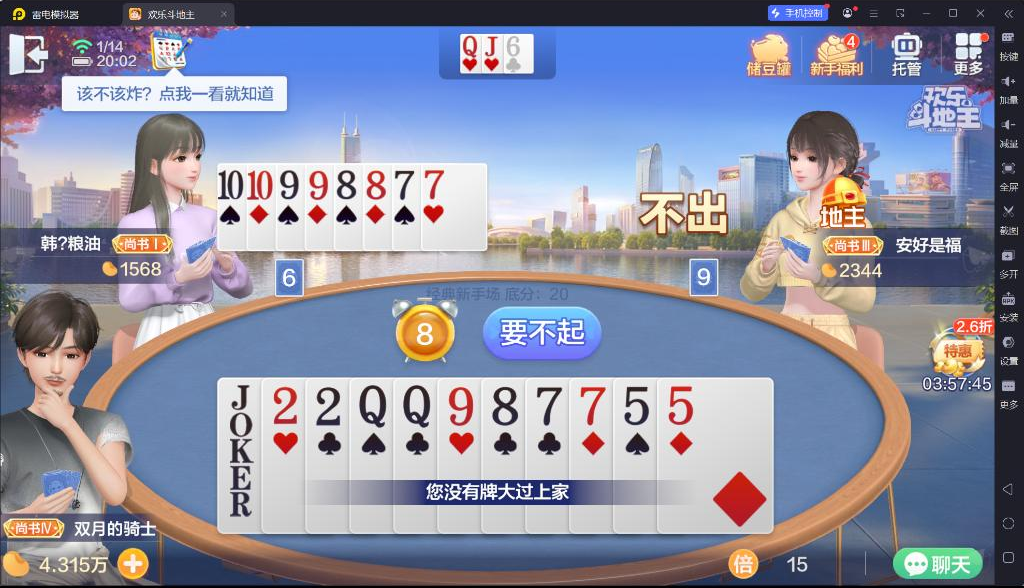J: (483, 35, 499, 57)
Q: (398, 382, 434, 429), (355, 382, 388, 429), (462, 35, 479, 59)
eight: (488, 384, 522, 427), (364, 169, 389, 201), (335, 167, 358, 201)
five: (618, 384, 654, 428), (661, 383, 697, 427)
joker: (225, 383, 255, 465)
nine: (442, 383, 476, 428), (277, 164, 301, 201), (307, 169, 330, 201)
seven: (531, 383, 565, 428), (574, 383, 607, 429), (421, 166, 446, 201), (392, 168, 416, 203)
six: (505, 35, 522, 58)
ten: (248, 165, 275, 203), (218, 165, 244, 202)
two: (311, 384, 345, 430), (270, 384, 299, 427)
